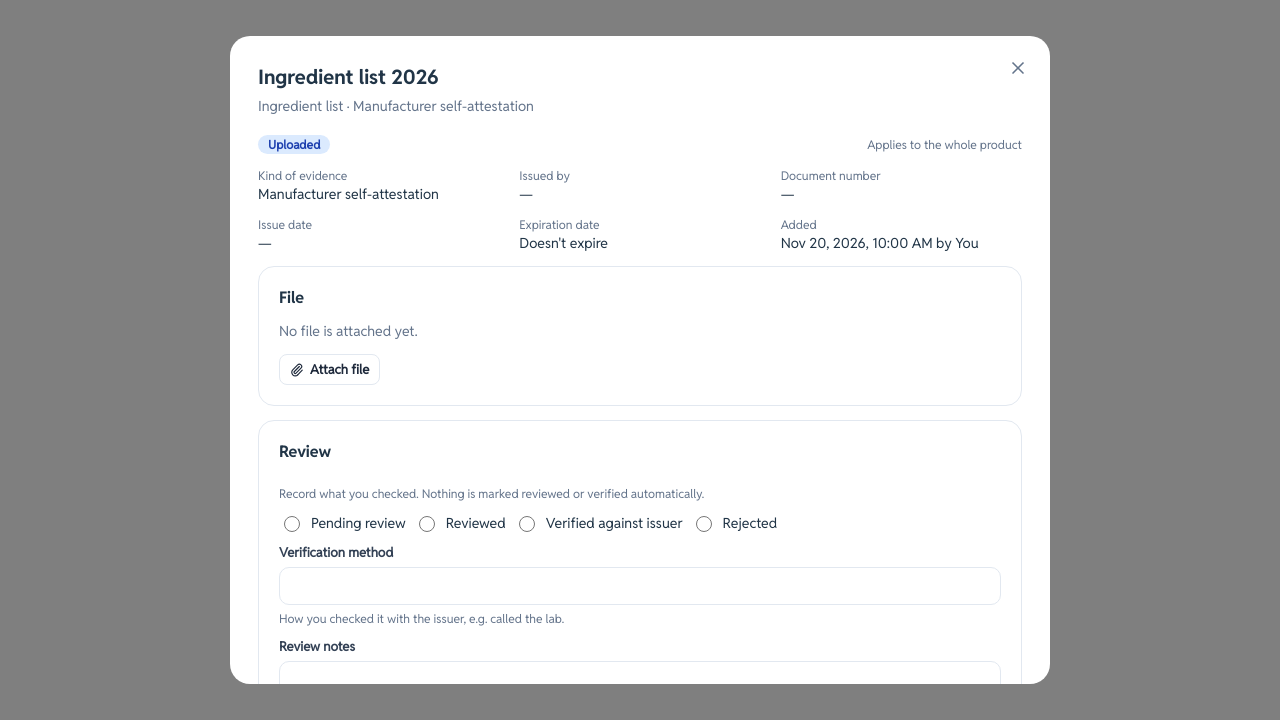
Test case: DocumentDetailModal review › requires a note to reject
This screenshot has width=1280, height=720.
Click the radio button labelled "Rejected" at (704, 524), box [696, 516, 712, 532]
(page scrolled)
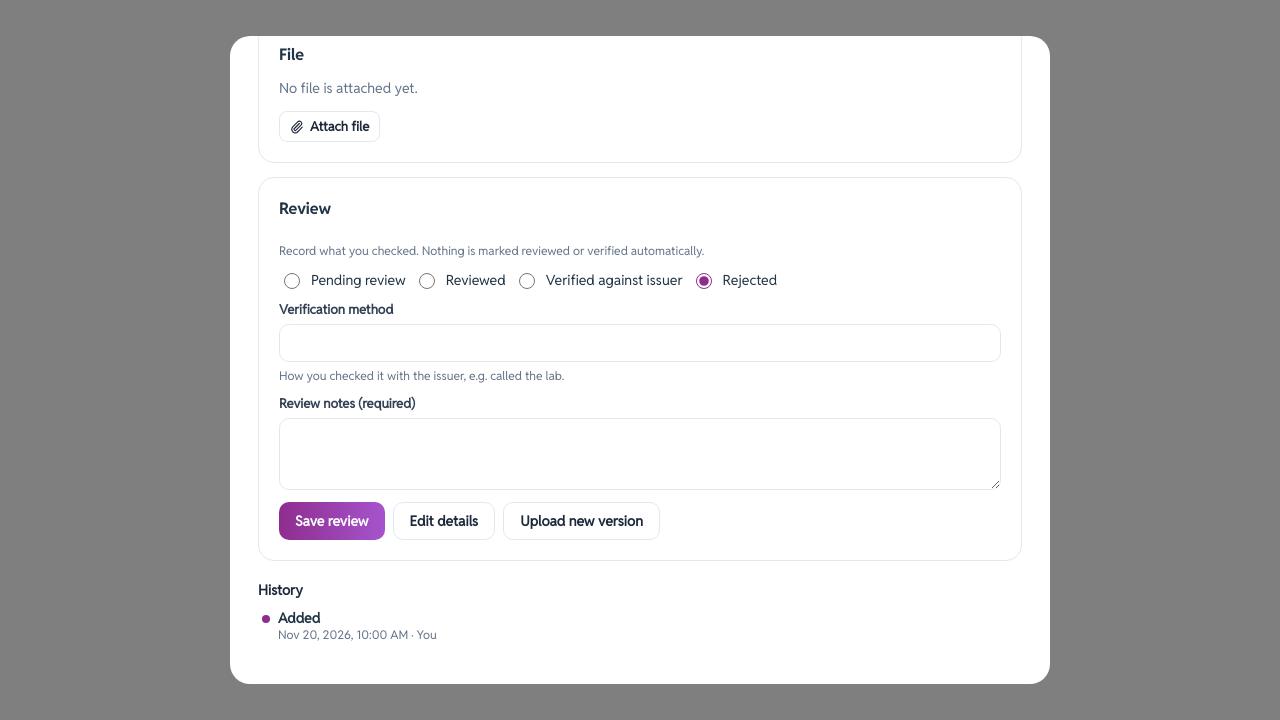
Click the button "Save review" at (332, 521), box [279, 502, 385, 540]
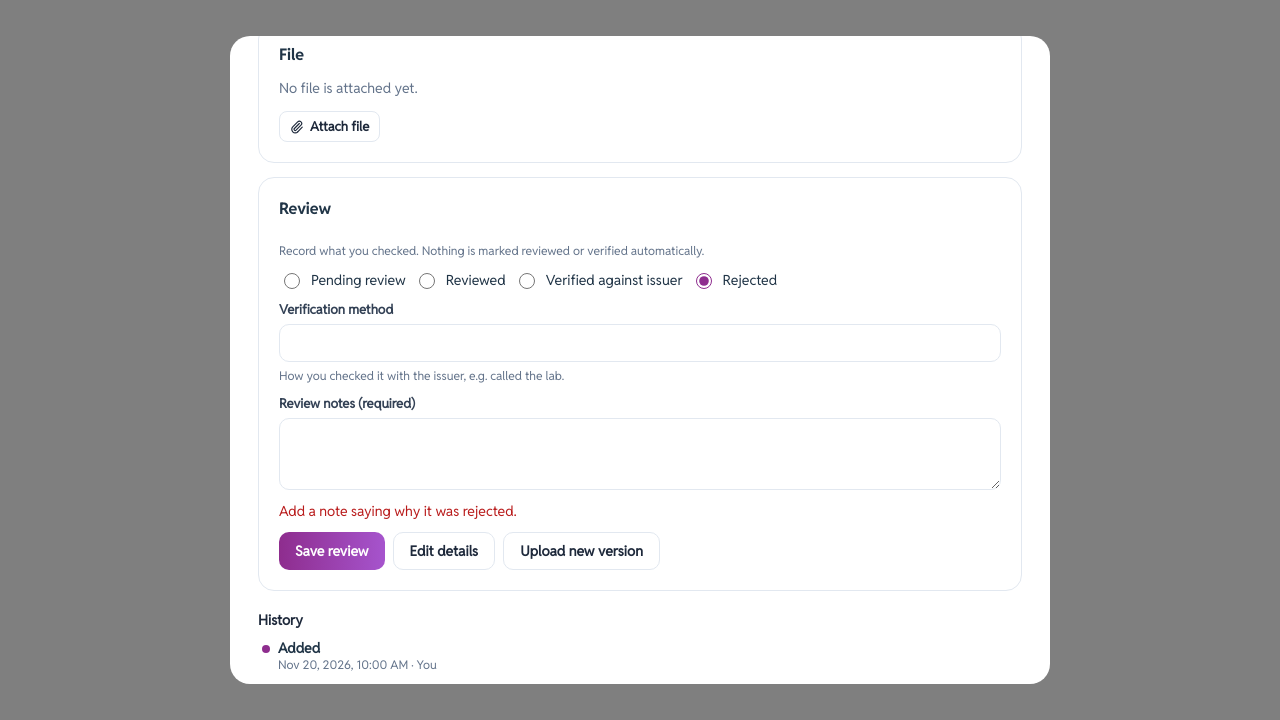
Expected: the message reads "Add a note saying why it was rejected.", [279, 502, 517, 520]
